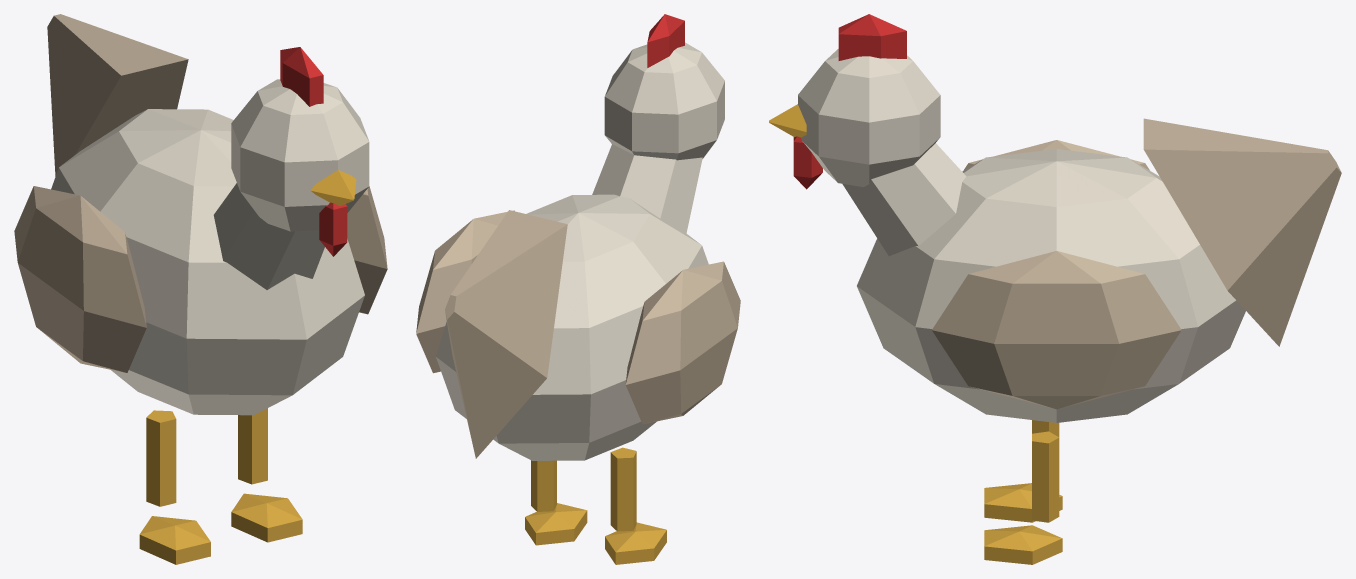
The model's file is corvo.glb.
3 views of the same model, side by side, from view 1: azimuth 30°, elevation 25°; view 2: azimuth 150°, elevation 25°; view 3: azimuth 270°, elevation 25° (orthographic). The views are drawn at different scales.
Visible parts, largest first — view 1: Corpo, Cabeca; view 2: Corpo, Cabeca; view 3: Corpo, Cabeca.
Part boxes in pixels (x1,y1,x2,y2): Corpo: (14,14,387,564); Cabeca: (231,47,369,256); Corpo: (416,144,740,564); Cabeca: (604,14,724,160); Corpo: (842,118,1341,564); Cabeca: (769,14,940,189).
Size of the model in its own units: 0.262 by 0.462 by 0.458.
